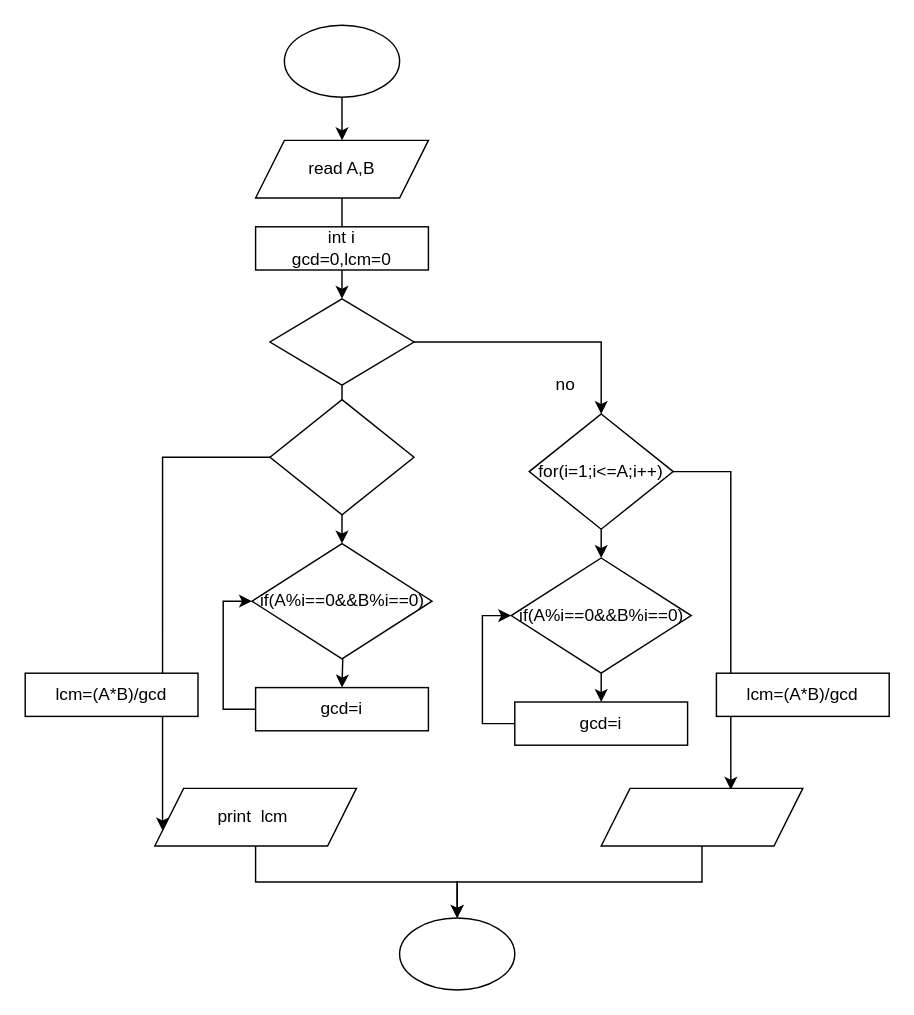
Some shapes in this 914 by 1015 pixel diagram are drawn without their labels. The shapes that lost their labels are listed below. From the top down, each one's centre as x and y in pixels, then its label:
At [341,60]: "START".
At [341,341]: "if(A>B)".
At [341,456]: "for(i=1;i<=B;i++)".
At [701,816]: "print gcd".
At [456,953]: "STOP".
